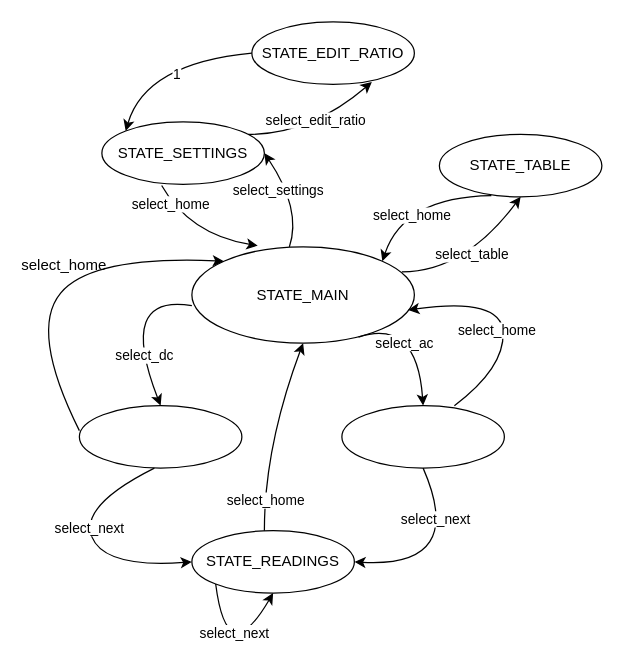
The diagram is 624 pixels wide and 663 high, and some of its shapes have lost their labels. Here are the shapes that lost their labels. From the top down, the box of each, then its label:
(78, 404, 242, 468): STATE_DC
(341, 404, 504, 468): STATE_AC
